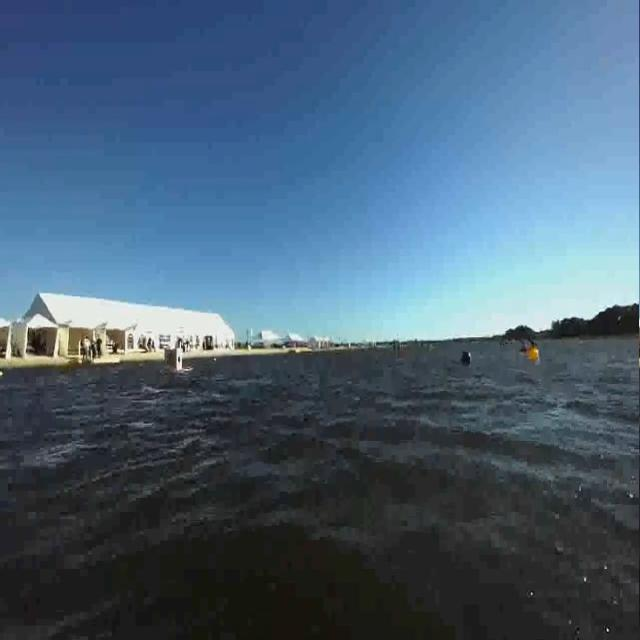black-buoy: (458, 354, 473, 366)
blue-buoy: (459, 350, 473, 370)
yellow-buoy: (526, 349, 540, 366)
